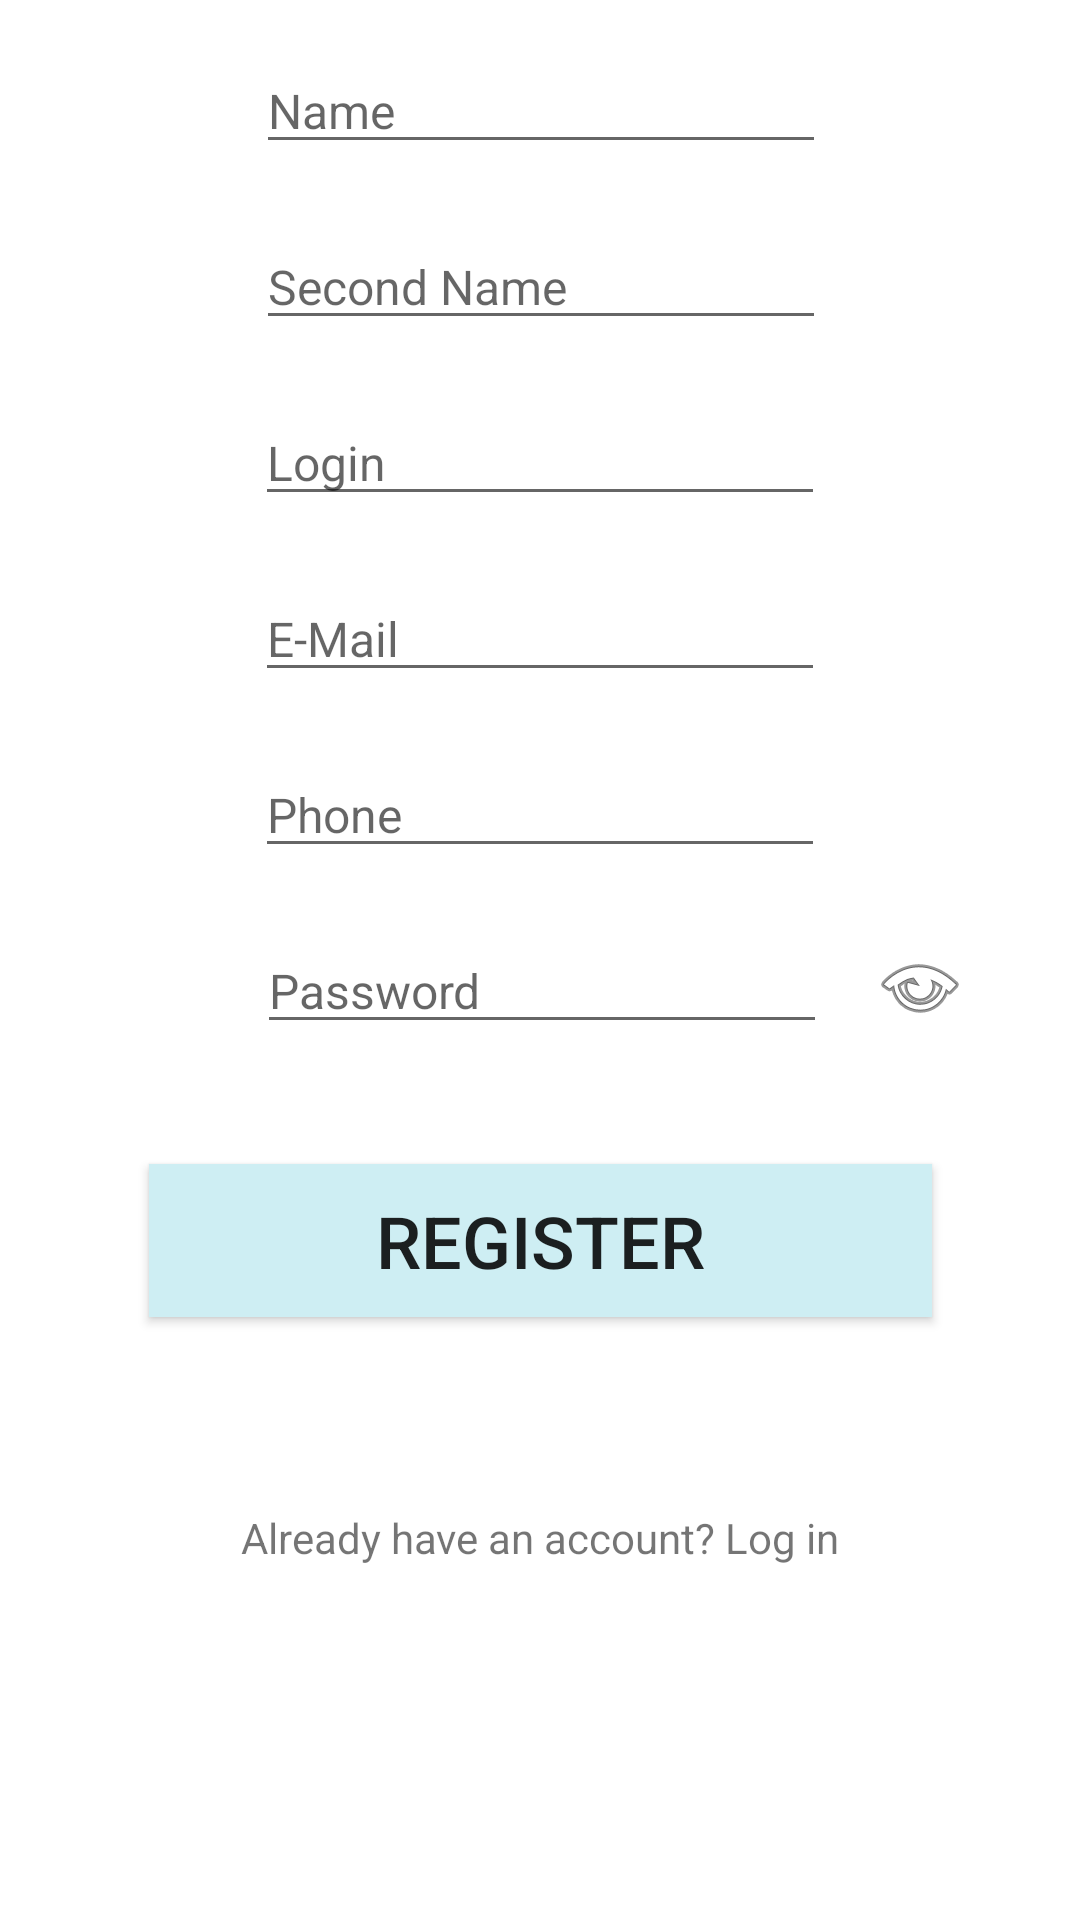

Screen size 1080px×1920px. Icon name, then its center in pixels as [x,y]:
view: [920,988]
